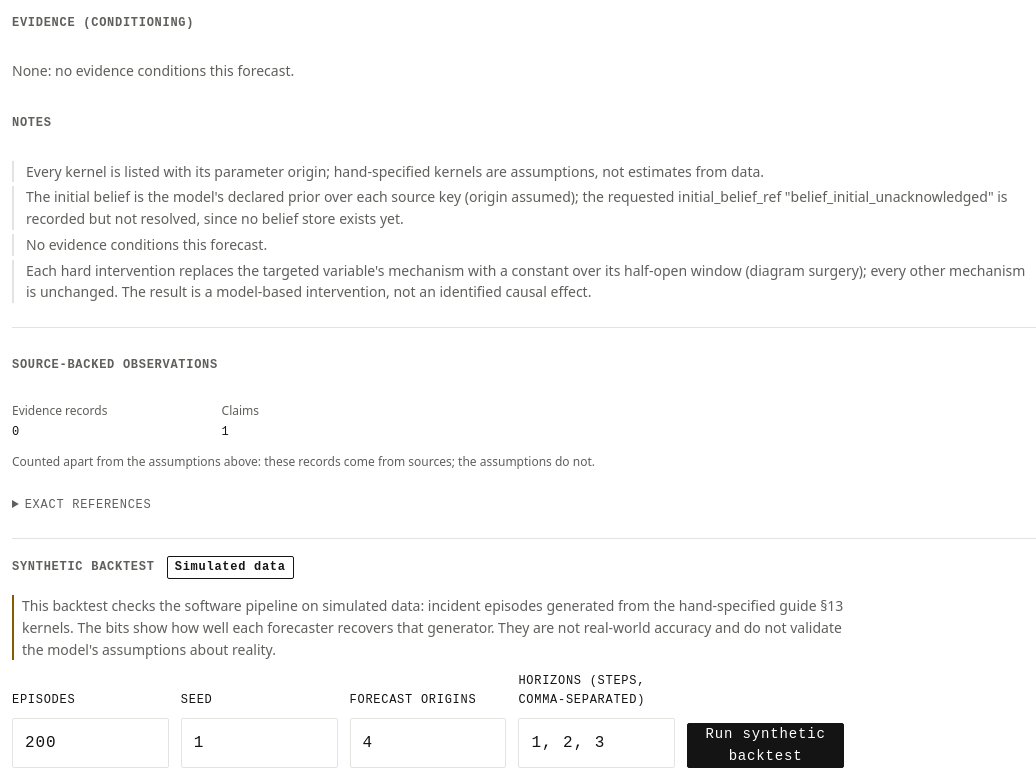
Test case: Step4Report › shows the simulated-data disclaimer and runs a synthetic backtest with the form values
(page scrolled)
Expected: the text with test id "backtest-disclaimer" shows "software pipeline on simulated data", [22,596,843,659]
Expected: the text with test id "backtest-disclaimer" shows "not real-world accuracy", [22,596,843,659]
Replace the text in the number field with test id "backtest-episodes" with "120" at coordinates (90, 743), box [12,718,169,767]
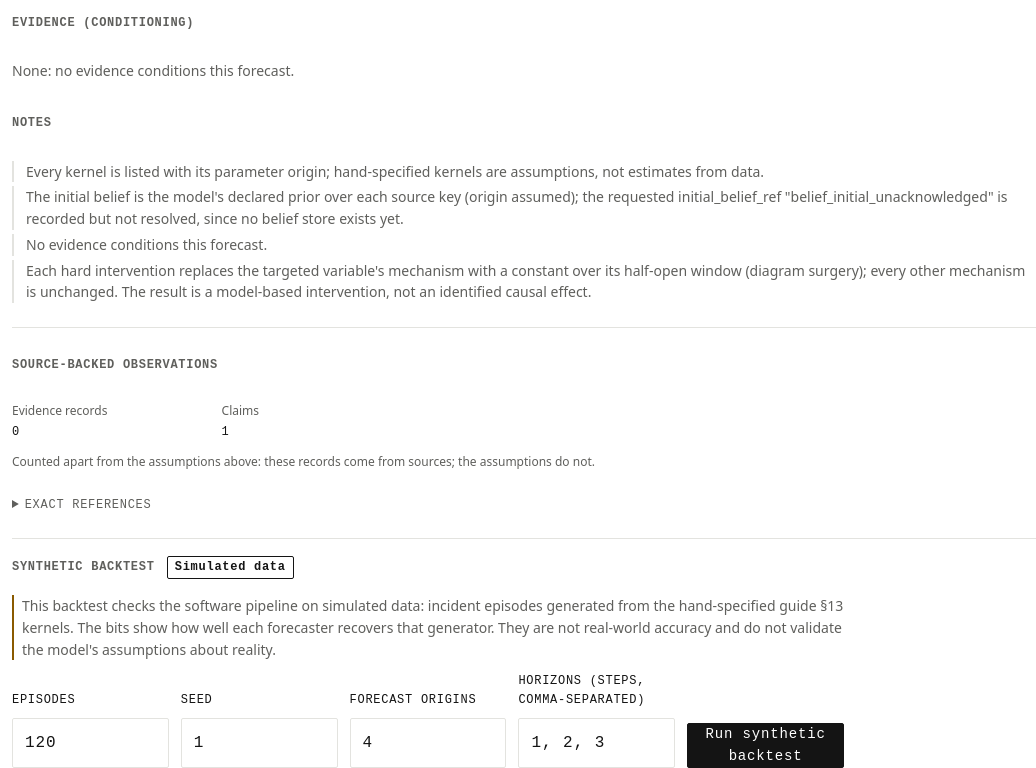
Replace the text in the number field with test id "backtest-seed" with "7" at coordinates (259, 743), box [181,718,338,767]
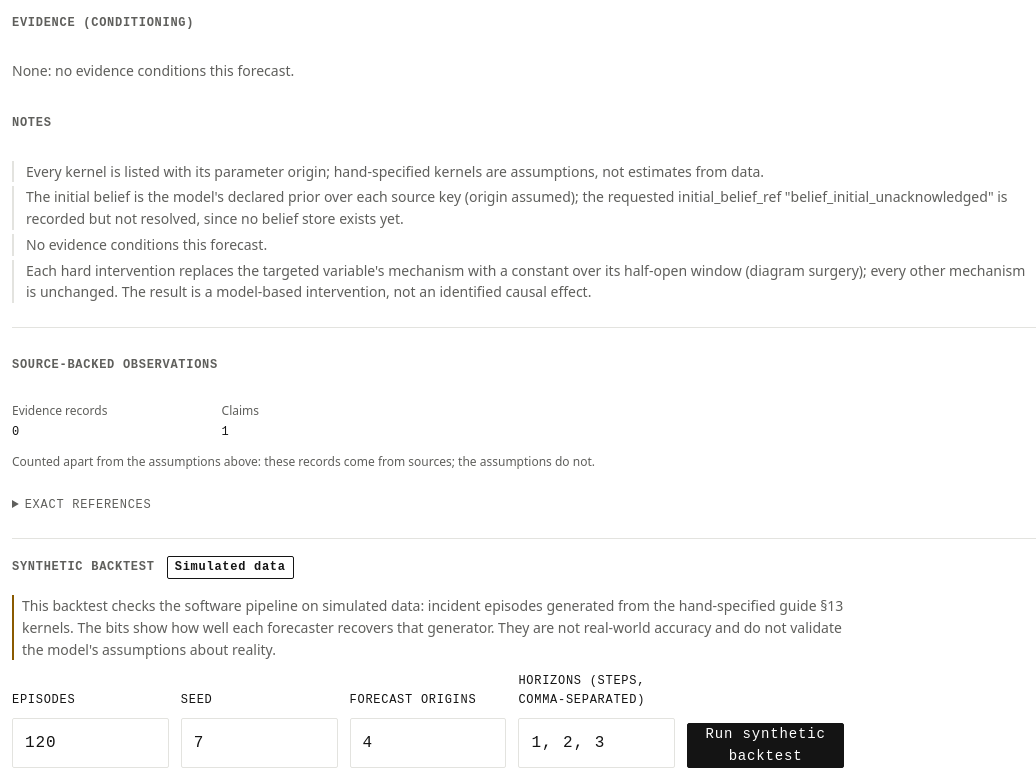
Replace the text in the number field with test id "backtest-origins" with "3" at coordinates (428, 743), box [350,718,506,767]
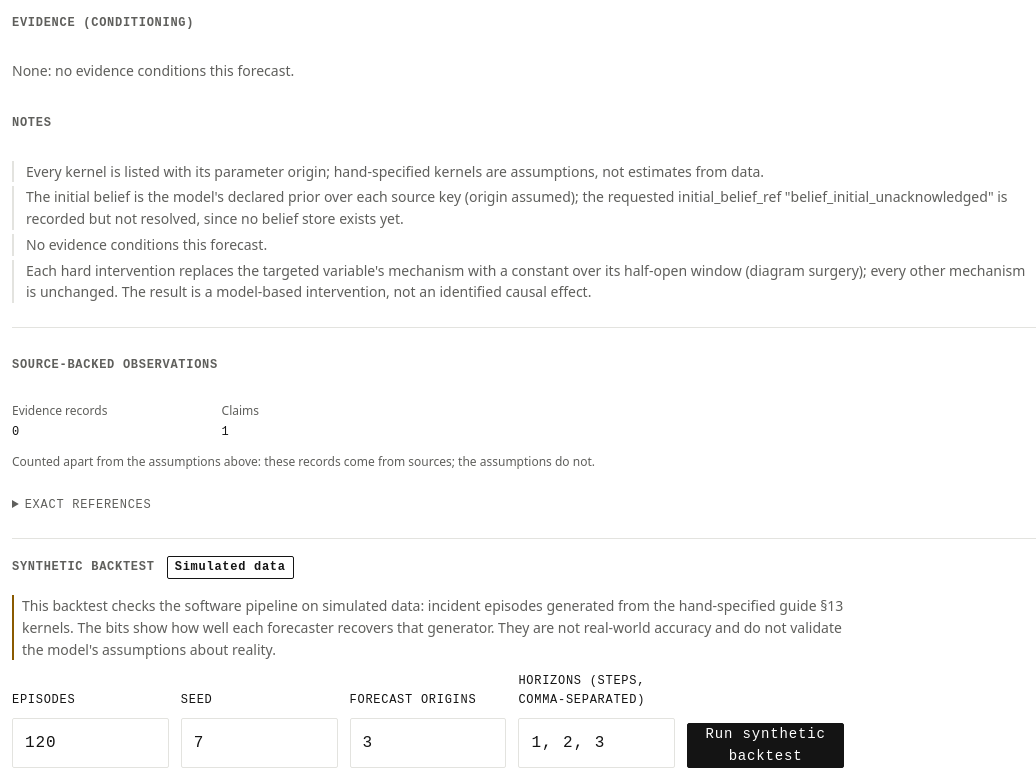
Replace the text in the field with test id "backtest-horizons" with "1, 2" at coordinates (597, 743), box [518,718,675,767]
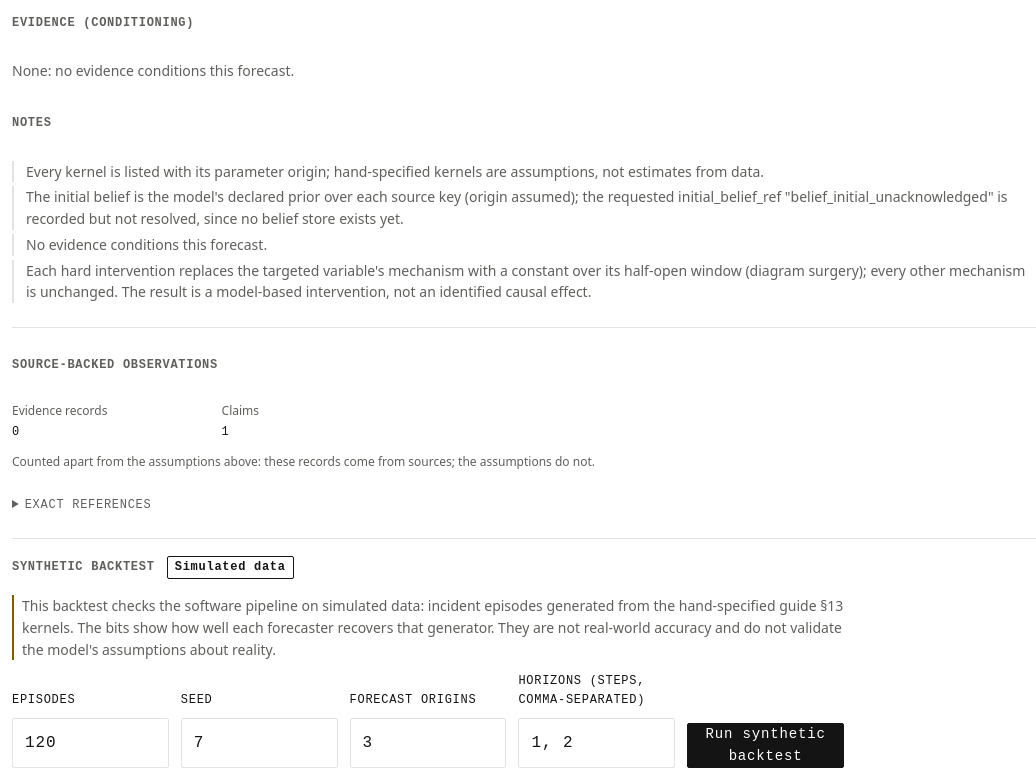
Submit the form with test id "backtest-form", box [12,672,844,767]
(page scrolled)
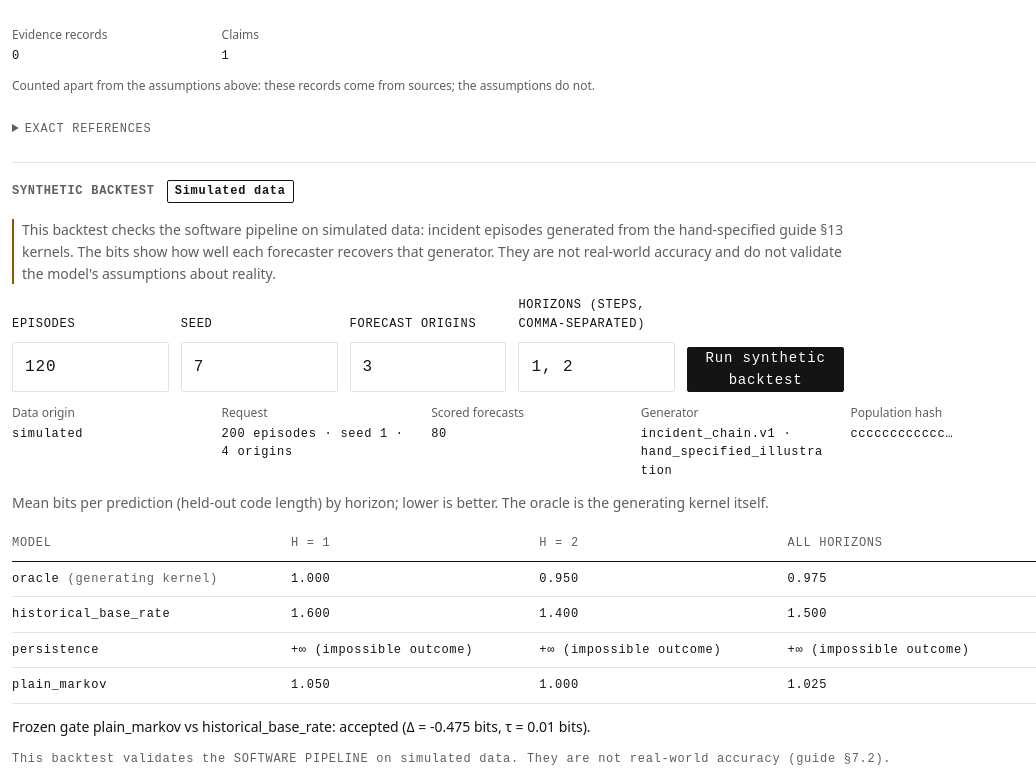
Result: the elements with test id "backtest-cell" read "1.000", "0.950", in this order at [291,561,539,597]; [539,561,788,597]
Result: the 1st cell with test id "backtest-cell" reads "+∞ (impossible outcome)" at [291,643,473,657]
Result: the 2nd cell with test id "backtest-cell" reads "+∞ (impossible outcome)" at [539,643,721,657]
